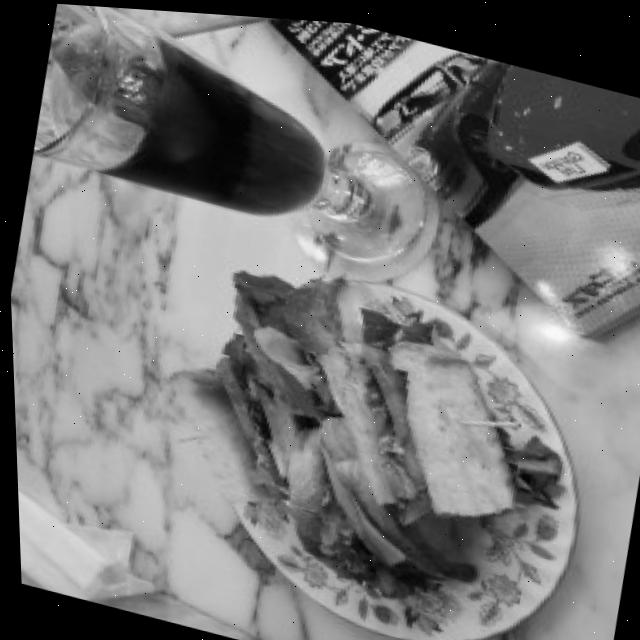三明治: (124, 215, 606, 640)
